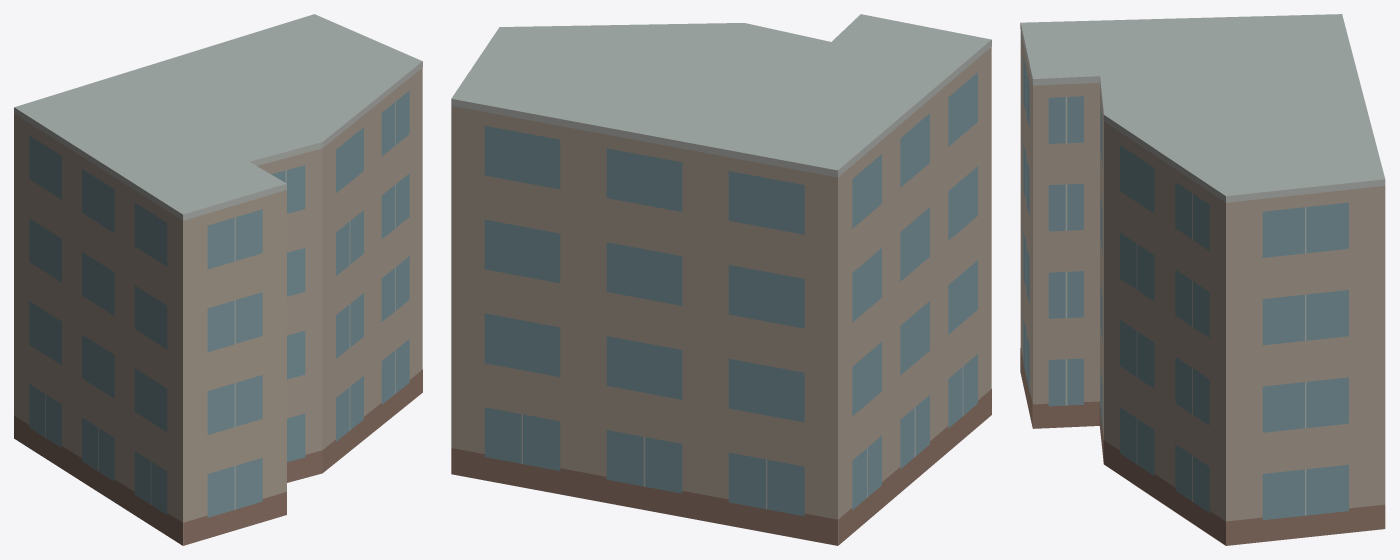
The model's file is survey-upis-32876295.glb.
3 views of the same model, side by side, from view 1: azimuth 30°, elevation 25°; view 2: azimuth 150°, elevation 25°; view 3: azimuth 270°, elevation 25° (orthographic). The views are drawn at different scales.
Parts seen in each view (by area): view 1: survey-upis-32876295.tmp; view 2: survey-upis-32876295.tmp; view 3: survey-upis-32876295.tmp.
Boxes of the visible parts, left/top/right/bottom form: survey-upis-32876295.tmp: left=14, top=14, right=422, bottom=545; survey-upis-32876295.tmp: left=451, top=14, right=991, bottom=545; survey-upis-32876295.tmp: left=1020, top=14, right=1385, bottom=545.
Size of the model in its own units: 14.54 by 13 by 12.3.
